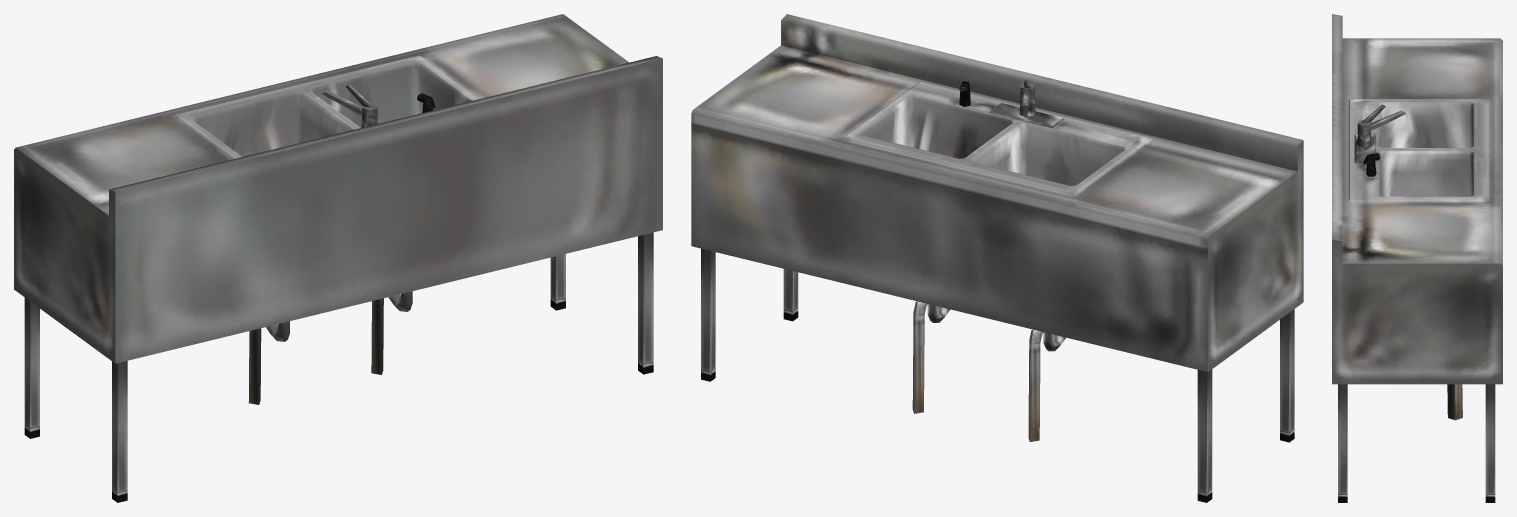
Rendered from restaurantsink.fbx.
3 renders of one model, left to right at view 1: azimuth 30°, elevation 25°; view 2: azimuth 150°, elevation 25°; view 3: azimuth 270°, elevation 25°, orthographic. The views are drawn at different scales.
Parts seen in each view (by area): view 1: mesh_0; view 2: mesh_0; view 3: mesh_0.
Boxes of the visible parts, x1,y1,x2,y2 form: mesh_0: [14, 14, 662, 502]; mesh_0: [691, 14, 1303, 502]; mesh_0: [1332, 14, 1502, 502].
Size of the model in its own units: 200 by 117 by 64.06.
1 material, 1 textured.
